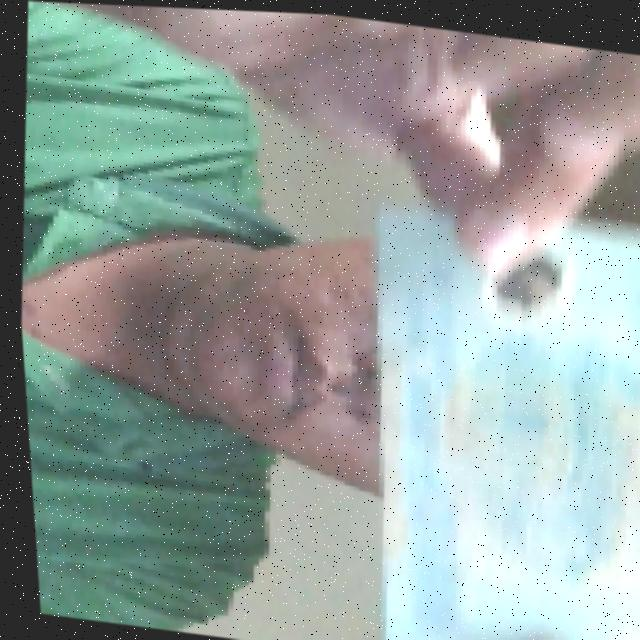20 000 VND: (330, 172, 640, 640)
